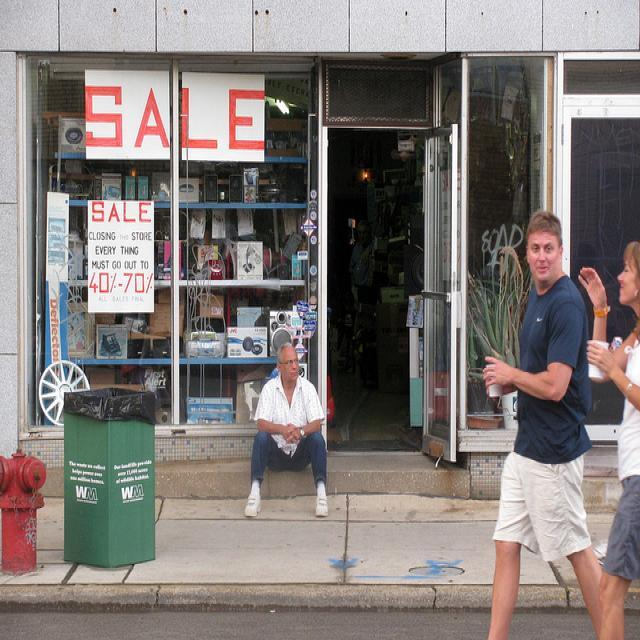fire_hydrant: (1, 448, 45, 576)
